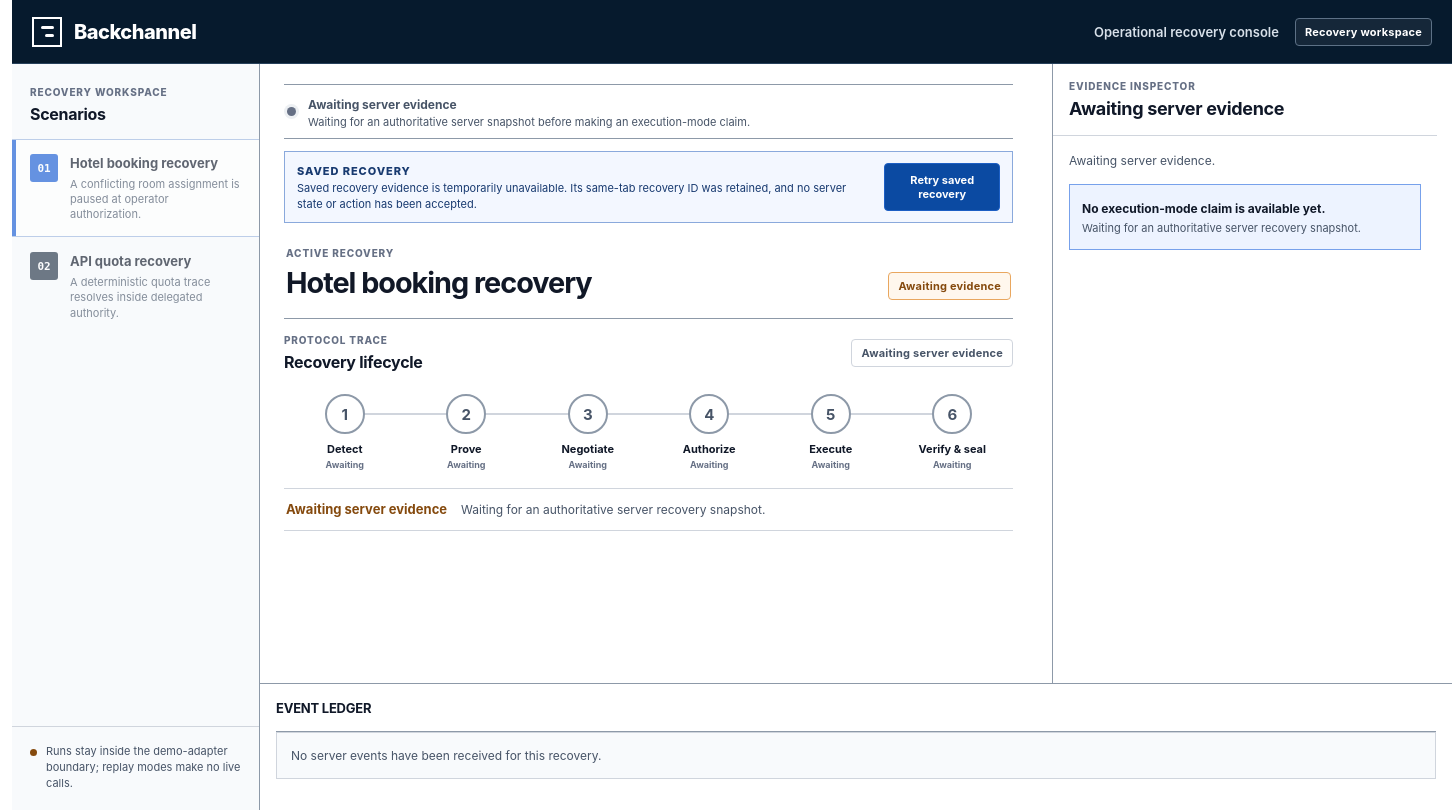
explicit, reload-safe live recovery › retains a miscorrelated response, then clears the hint when explicit retry returns 404
Check: the text "Awaiting server evidence" in the row of "Recovery lifecycle" is shown, box [862,346,1003,360]
Click the button "Retry saved recovery" at (942, 187), box [884,163,1000,211]
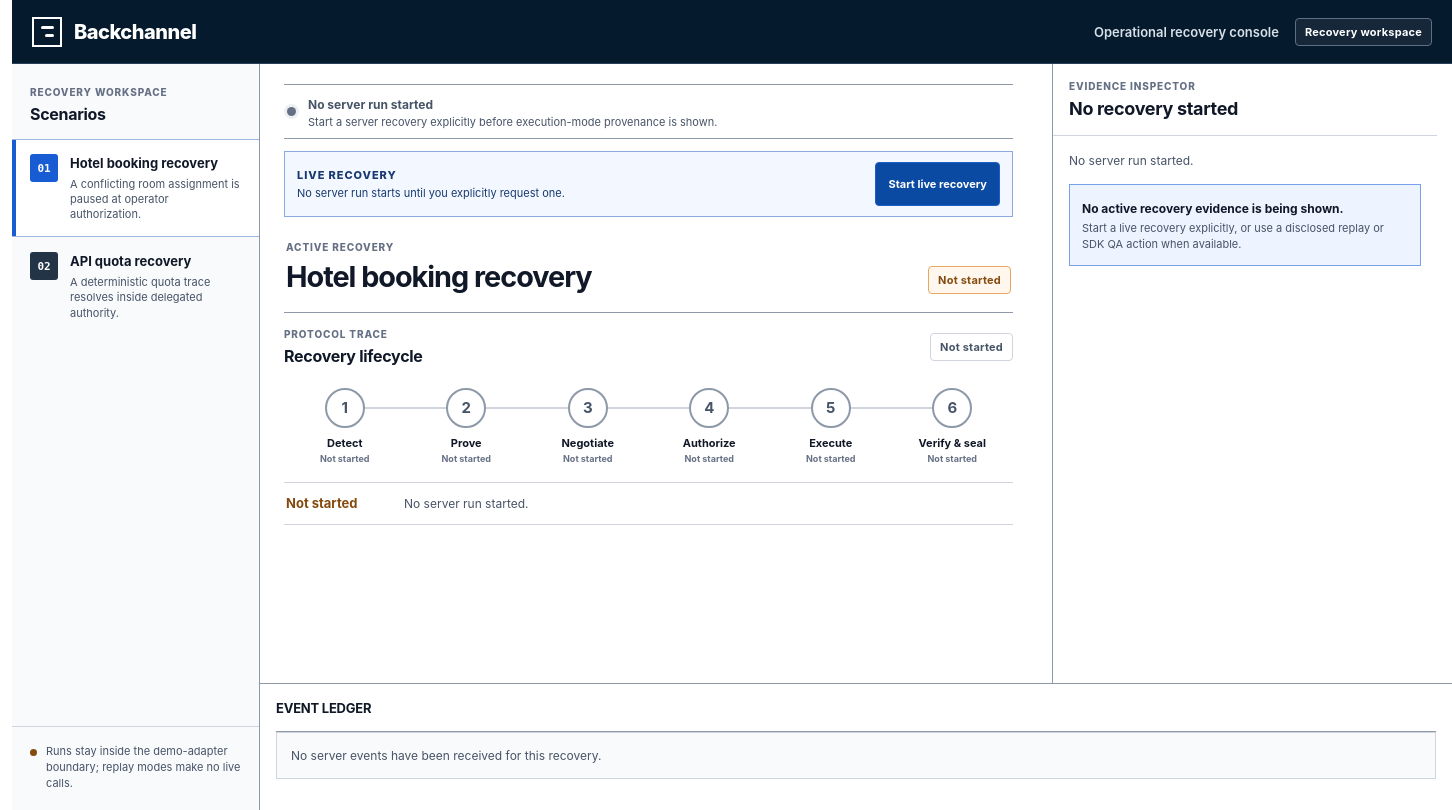
Check: the button "Start live recovery" is shown, box [876,162,1000,206]
Check: the text "Not started" in the row of "Recovery lifecycle" is shown, box [940,340,1003,354]
